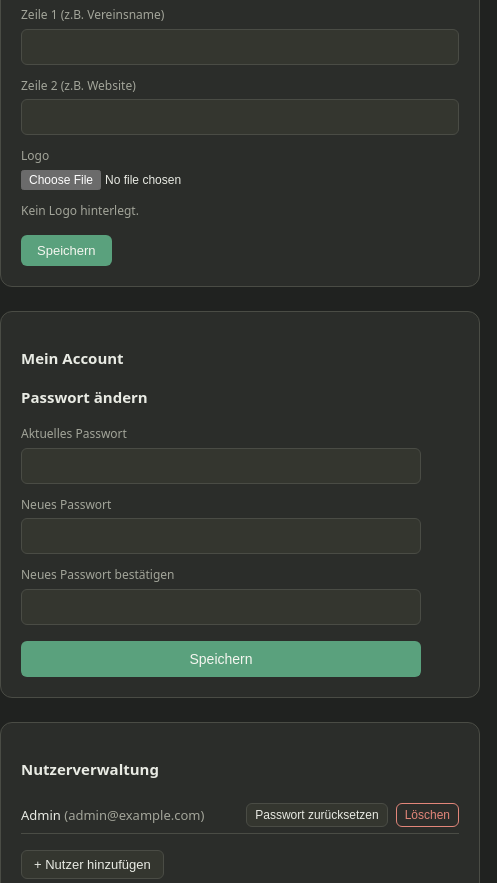
SettingsPage › user management section › resets a user's password and shows a confirmation
(page scrolled)
Check: the text "Admin" is shown, box x1=21 y1=806 x2=61 y2=824
Click the button "Passwort zurücksetzen" at (317, 815), box x1=246 y1=803 x2=388 y2=827
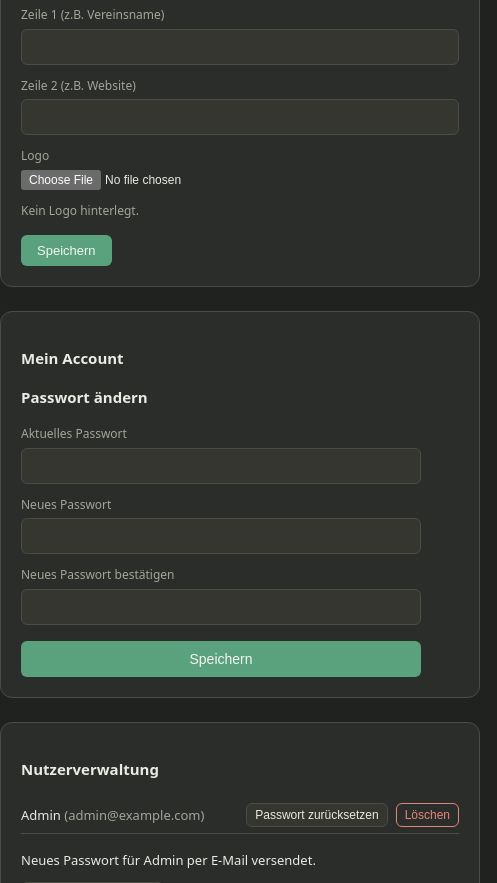
Check: the text "Neues Passwort für Admin per E-Mail versendet." is shown, box x1=21 y1=851 x2=316 y2=869
